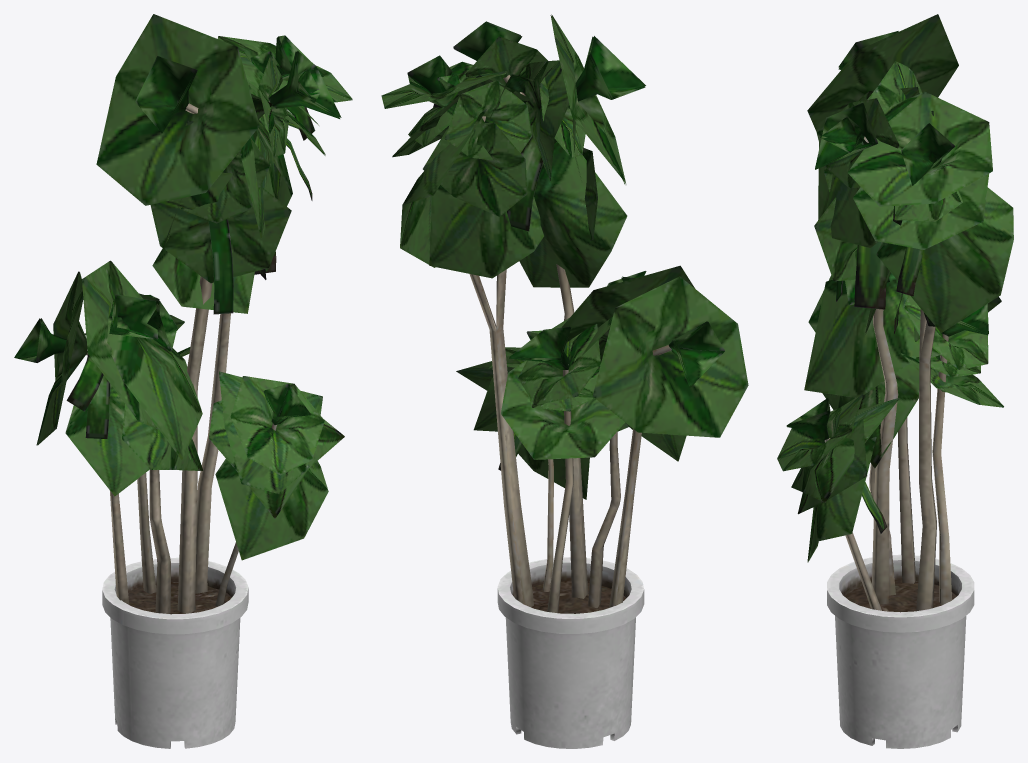
File: sm10_002_indoorplant02a.fbx
3 renders of one model, left to right at view 1: azimuth 30°, elevation 25°; view 2: azimuth 150°, elevation 25°; view 3: azimuth 270°, elevation 25°, orthographic.
Visible parts, largest first — view 1: LOD_1_Group_2_Sub_1__sm10_002_IndoorPlant02A_A_Mat, LOD_1_Group_0_Sub_1__sm10_002_IndoorPlant02A_A_Mat, LOD_1_Group_1_Sub_1__sm10_002_IndoorPlant02A_A_Mat; view 2: LOD_1_Group_2_Sub_1__sm10_002_IndoorPlant02A_A_Mat, LOD_1_Group_0_Sub_1__sm10_002_IndoorPlant02A_A_Mat, LOD_1_Group_1_Sub_1__sm10_002_IndoorPlant02A_A_Mat; view 3: LOD_1_Group_2_Sub_1__sm10_002_IndoorPlant02A_A_Mat, LOD_1_Group_0_Sub_1__sm10_002_IndoorPlant02A_A_Mat, LOD_1_Group_1_Sub_1__sm10_002_IndoorPlant02A_A_Mat.
Boxes of the visible parts, x1,y1,x2,y2 form: LOD_1_Group_2_Sub_1__sm10_002_IndoorPlant02A_A_Mat: (14, 14, 352, 560); LOD_1_Group_0_Sub_1__sm10_002_IndoorPlant02A_A_Mat: (102, 557, 248, 748); LOD_1_Group_1_Sub_1__sm10_002_IndoorPlant02A_A_Mat: (86, 101, 276, 613); LOD_1_Group_2_Sub_1__sm10_002_IndoorPlant02A_A_Mat: (381, 14, 748, 499); LOD_1_Group_0_Sub_1__sm10_002_IndoorPlant02A_A_Mat: (497, 557, 644, 748); LOD_1_Group_1_Sub_1__sm10_002_IndoorPlant02A_A_Mat: (469, 75, 671, 613); LOD_1_Group_2_Sub_1__sm10_002_IndoorPlant02A_A_Mat: (777, 14, 1013, 562); LOD_1_Group_0_Sub_1__sm10_002_IndoorPlant02A_A_Mat: (827, 554, 974, 748); LOD_1_Group_1_Sub_1__sm10_002_IndoorPlant02A_A_Mat: (824, 136, 952, 611).
Size of the model in its own units: 1.16 by 2.41 by 0.7322.
